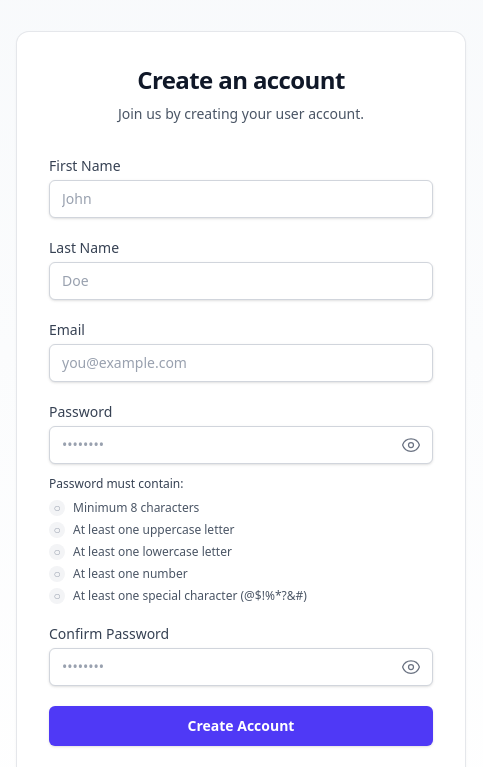
Scenario: RegisterForm › validates password confirmation match
Type "Password123!" into the password field labelled "Password" at [241, 445], box [49,426,433,464]
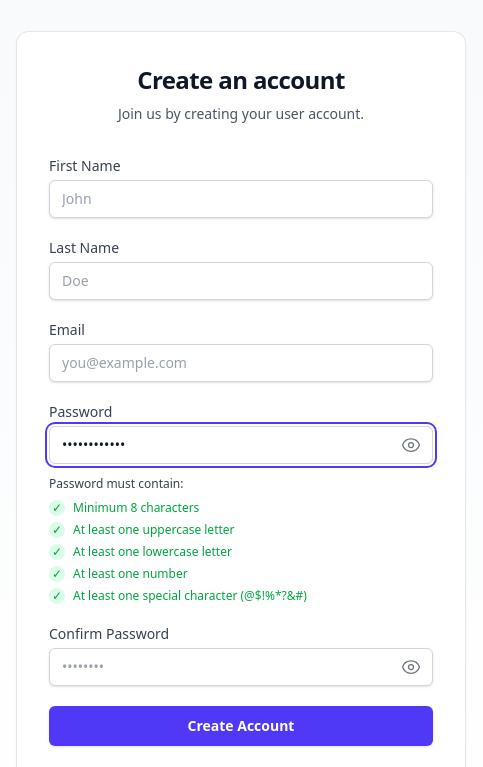
Type "Password456!" into the password field labelled "Confirm Password" at [241, 667], box [49,648,433,686]
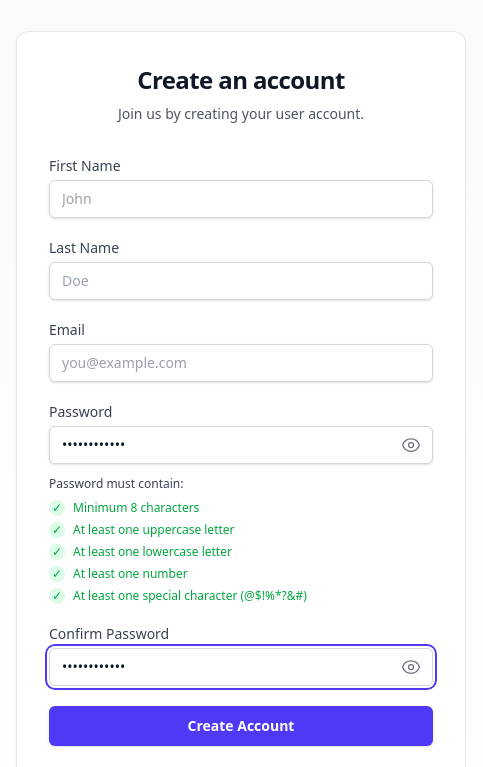
Click the button "Create Account" at [241, 726], box [49,706,433,746]
(page scrolled)
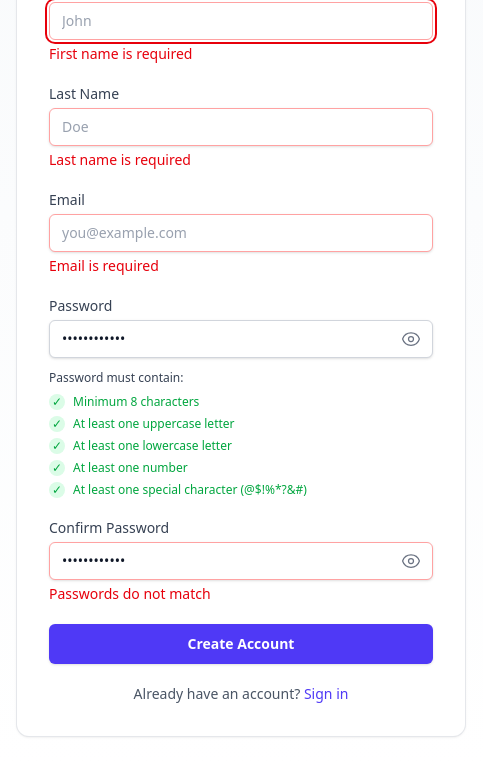
Result: the text "Passwords do not match" is shown at [49,584,211,603]
